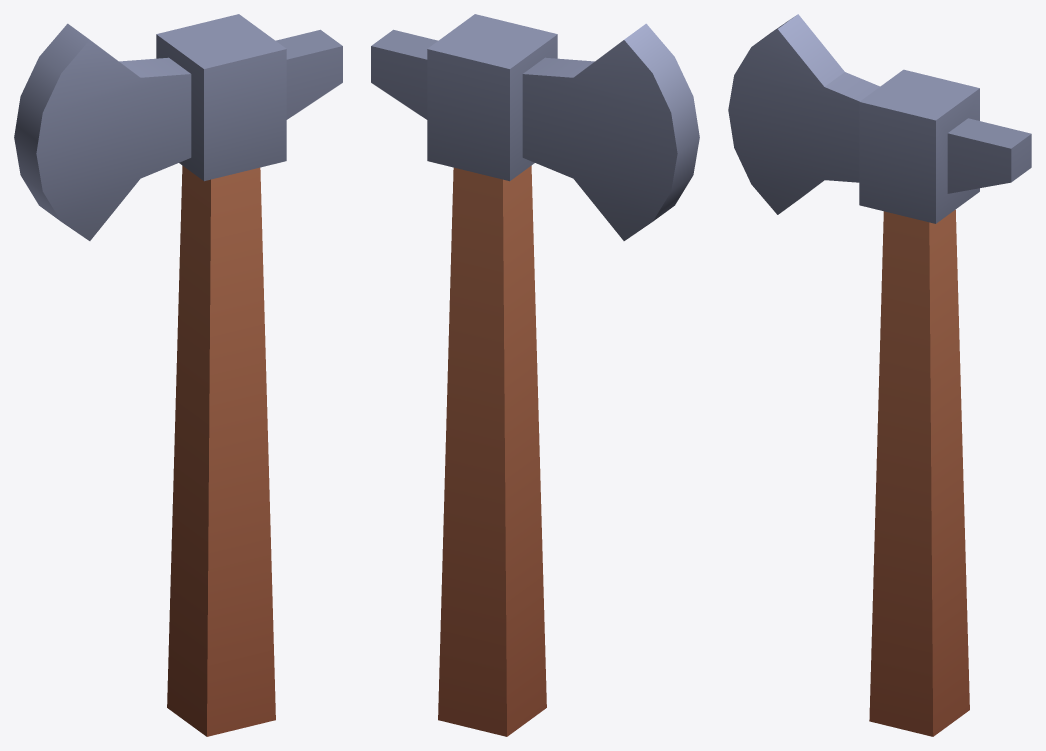
File: tool-axe.glb
3 views of the same model, side by side, from view 1: azimuth 30°, elevation 25°; view 2: azimuth 150°, elevation 25°; view 3: azimuth 330°, elevation 25° (orthographic). The views are drawn at different scales.
Parts seen in each view (by area): view 1: tool-axe; view 2: tool-axe; view 3: tool-axe.
Boxes of the visible parts, bbox=[...] form: tool-axe: bbox=[14, 14, 342, 736]; tool-axe: bbox=[371, 14, 699, 736]; tool-axe: bbox=[728, 14, 1031, 736].
Size of the model in its own units: 0.4025 by 0.9 by 0.1088.
